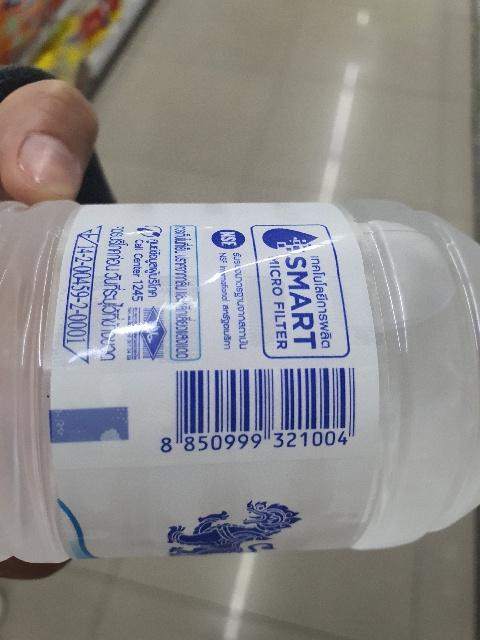Barcode: (155, 363, 363, 460)
